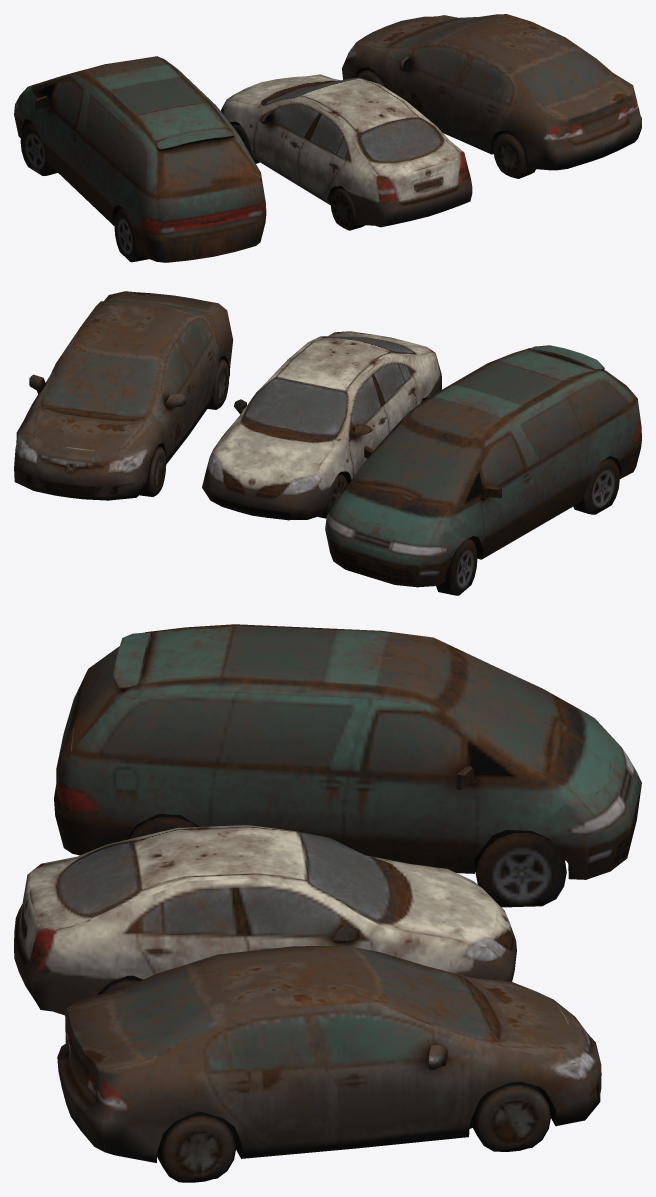
The model's file is Ruin Cars1.fbx.
3 views of the same model, one above another, from view 1: azimuth 30°, elevation 25°; view 2: azimuth 150°, elevation 25°; view 3: azimuth 270°, elevation 25° (orthographic). The views are drawn at different scales.
Parts seen in each view (by area): view 1: car3, car1, car2; view 2: car3, car1, car2; view 3: car3, car1, car2.
Part boxes in pixels (bbox=[...]): car3: bbox=[14, 56, 266, 262]; car1: bbox=[342, 14, 641, 178]; car2: bbox=[221, 74, 472, 230]; car3: bbox=[325, 345, 641, 595]; car1: bbox=[14, 291, 233, 500]; car2: bbox=[202, 331, 441, 520]; car3: bbox=[54, 624, 641, 907]; car1: bbox=[57, 946, 601, 1182]; car2: bbox=[14, 825, 516, 1015].
Size of the model in its own units: 763 by 185 by 523.
